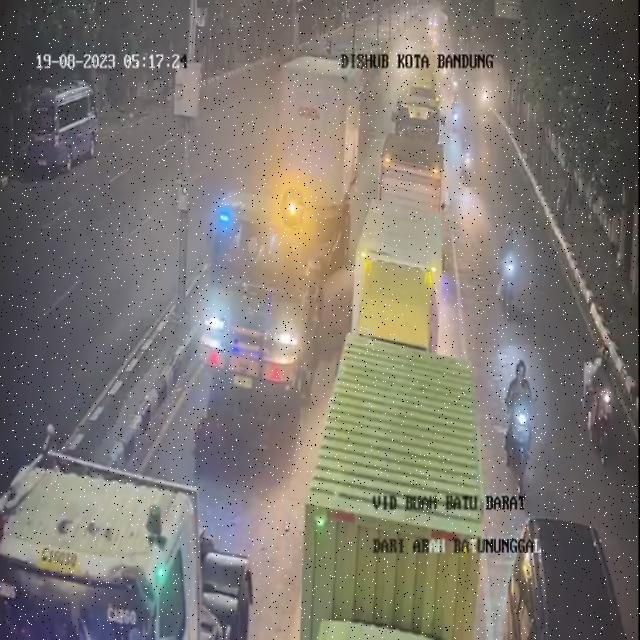cars: (501, 508, 617, 640)
motorcycle: (498, 347, 539, 483), (583, 339, 620, 464), (497, 222, 523, 321), (459, 128, 479, 186), (476, 76, 492, 116), (449, 92, 462, 136), (449, 68, 465, 100)
truck: (191, 57, 366, 397), (302, 321, 484, 640), (0, 429, 258, 640), (353, 186, 441, 345), (383, 127, 448, 217), (393, 62, 439, 154)
